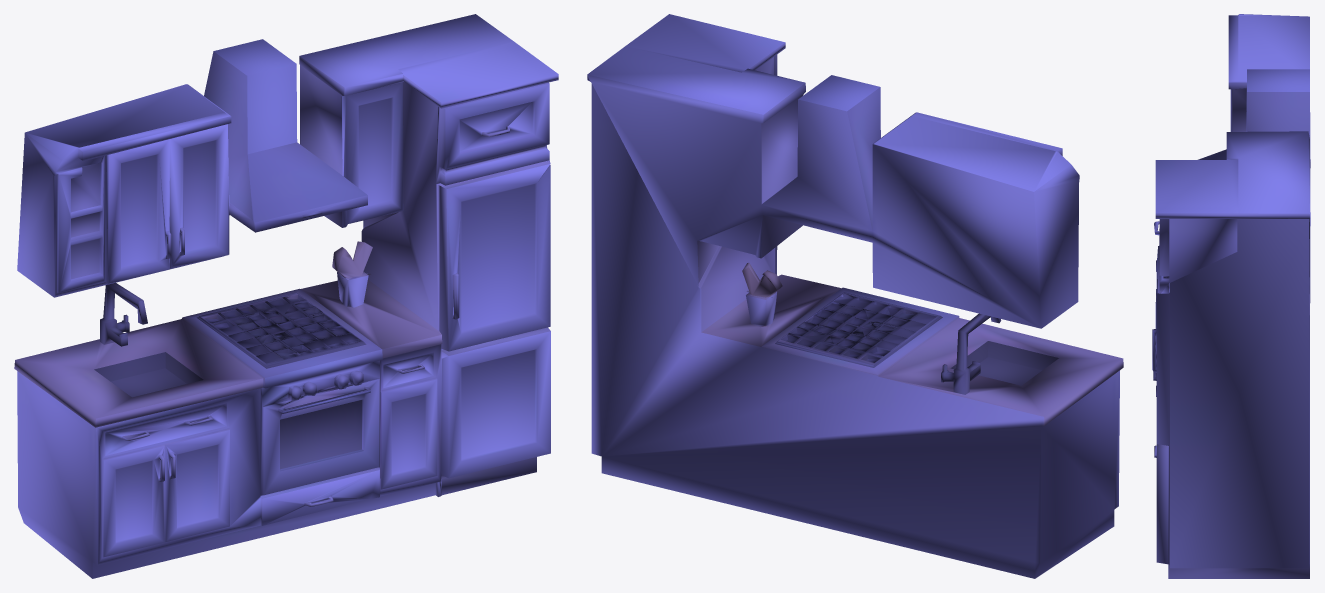
Rendered from model.progressive.glb.
3 renders of one model, left to right at view 1: azimuth 30°, elevation 25°; view 2: azimuth 150°, elevation 25°; view 3: azimuth 270°, elevation 25°, orthographic. The views are drawn at different scales.
Parts seen in each view (by area): view 1: mesh_input; view 2: mesh_input; view 3: mesh_input.
Boxes of the visible parts, x1,y1,x2,y2 form: mesh_input: [14, 14, 558, 578]; mesh_input: [587, 14, 1123, 578]; mesh_input: [1152, 14, 1310, 578].
Size of the model in its own units: 1.9 by 1.67 by 0.6035.
Materials: 1 (1 with a texture image).
